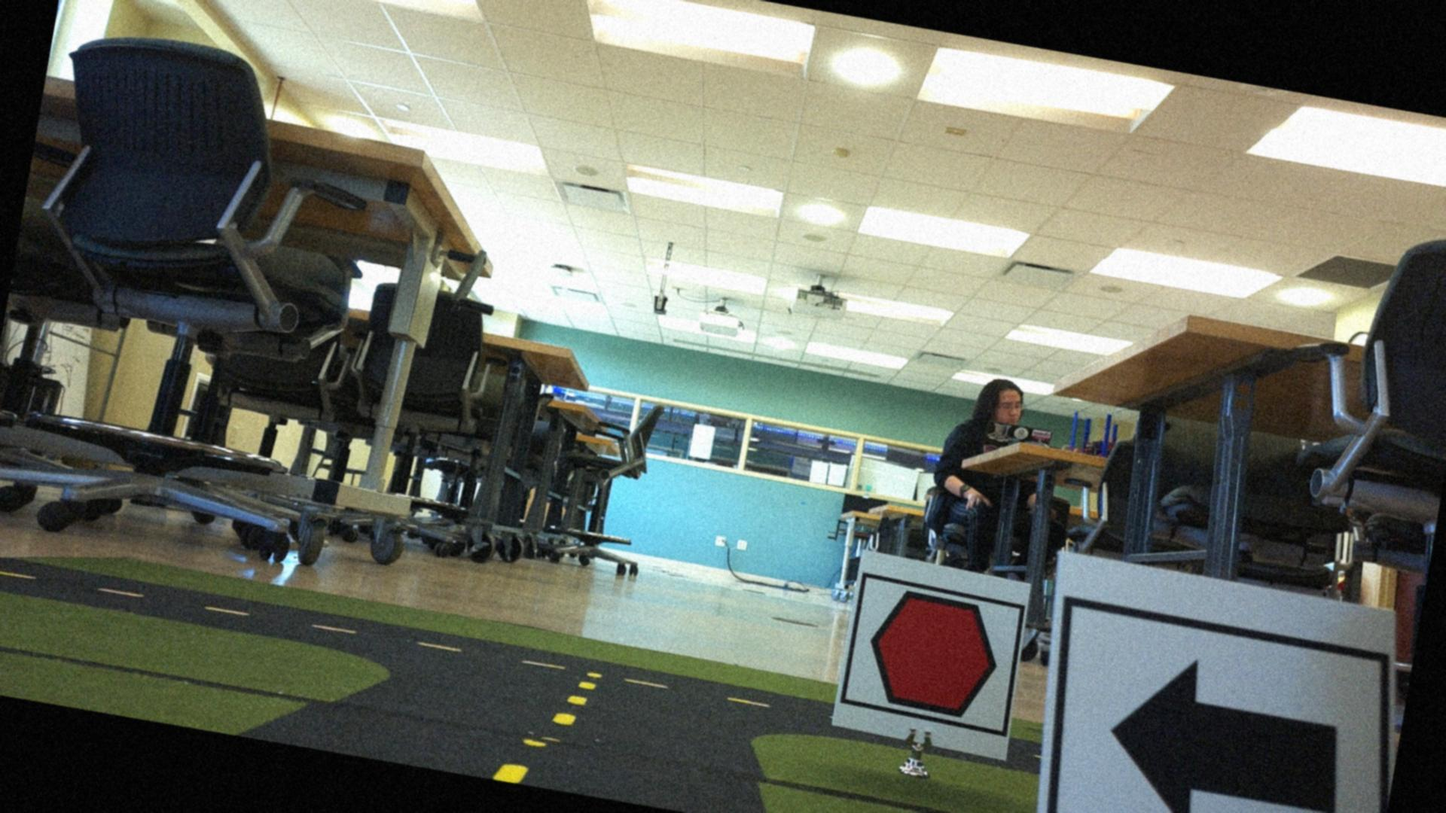stop: (838, 579, 1024, 730)
turnright: (1033, 605, 1395, 812)
yellowline: (496, 667, 594, 793)
